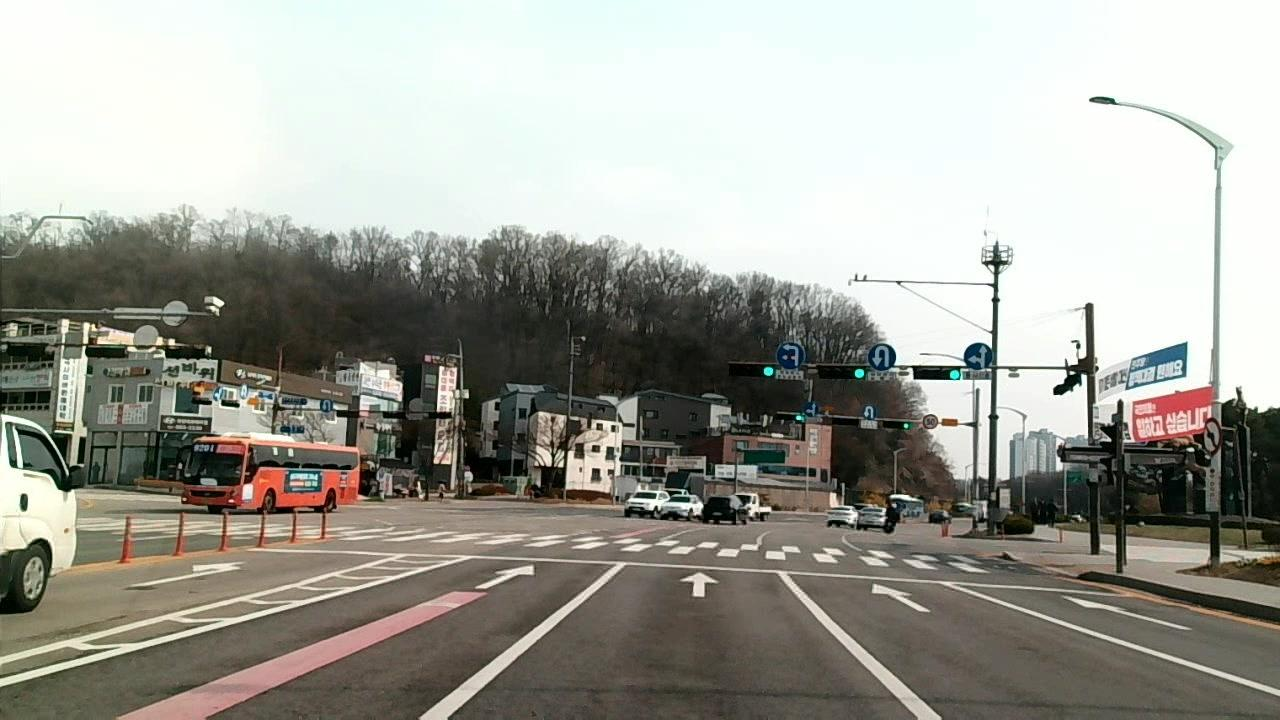banner: (1122, 383, 1216, 439), (1094, 341, 1190, 395)
